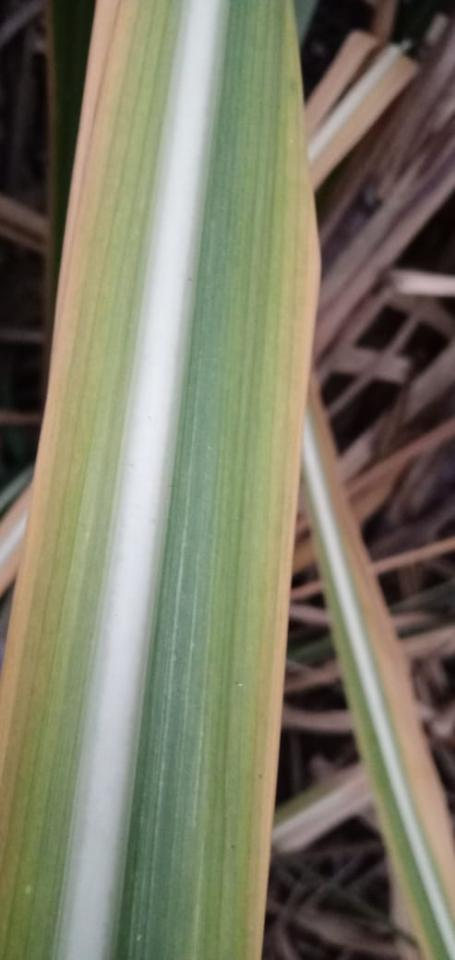Yellow: (0, 0, 170, 918), (245, 1, 323, 959)
